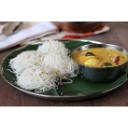idiyappam: (18, 65, 57, 92), (39, 53, 76, 76), (38, 38, 70, 55), (11, 52, 40, 68)
